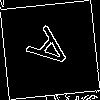A: (24, 24, 82, 80)
